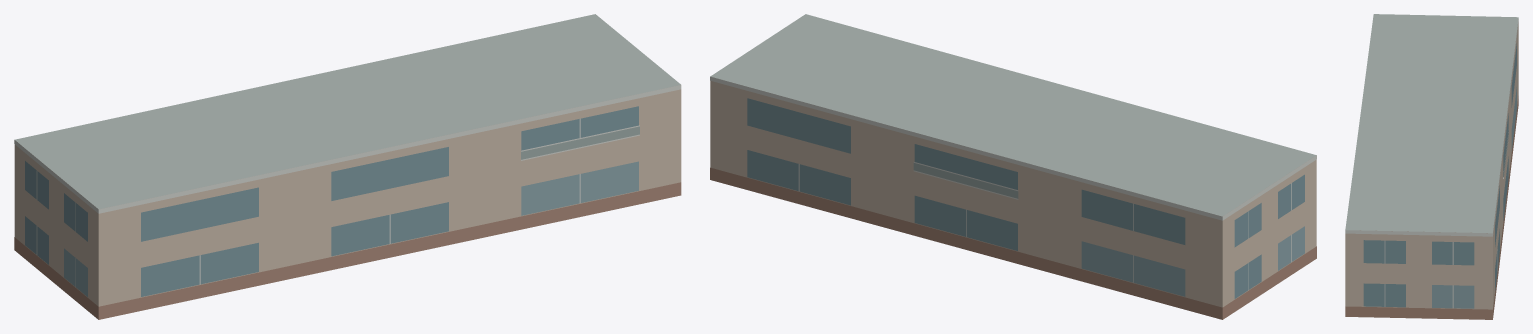
File: survey-upis-32762127.glb
3 renders of one model, left to right at view 1: azimuth 30°, elevation 25°; view 2: azimuth 150°, elevation 25°; view 3: azimuth 270°, elevation 25°, orthographic. The views are drawn at different scales.
Visible parts, largest first — view 1: survey-upis-32762127.tmp; view 2: survey-upis-32762127.tmp; view 3: survey-upis-32762127.tmp.
Boxes of the visible parts, x1=… form: survey-upis-32762127.tmp: x1=14, y1=14, x2=681, y2=319; survey-upis-32762127.tmp: x1=710, y1=14, x2=1316, y2=319; survey-upis-32762127.tmp: x1=1345, y1=14, x2=1518, y2=319.
Bounding box in the file's own units: 33.09 × 6.1 × 11.07.
